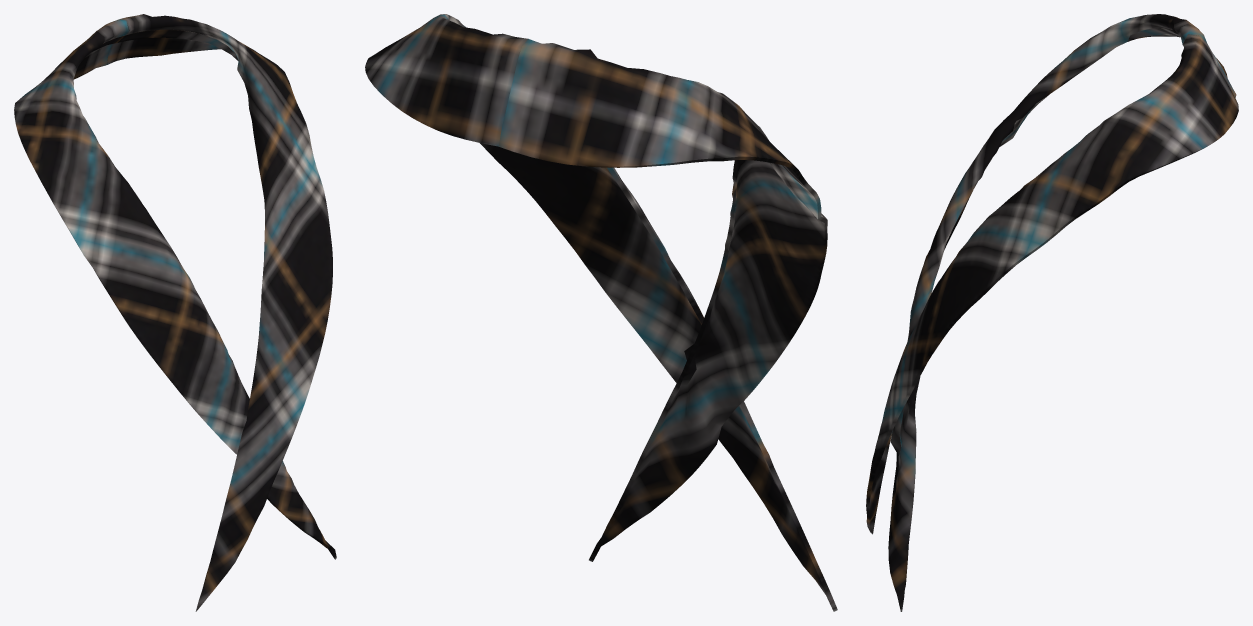
Rendered from shawldb.glb.
The picture shows the model from 3 angles, left to right: view 1: azimuth 30°, elevation 25°; view 2: azimuth 150°, elevation 25°; view 3: azimuth 270°, elevation 25°; orthographic projection. The views are drawn at different scales.
Parts seen in each view (by area): view 1: lapel (×3); view 2: lapel (×2); view 3: lapel (×2).
Boxes of the visible parts, x1,y1,x2,y2 form: lapel (×3): [14, 14, 336, 611]; lapel (×2): [365, 14, 837, 611]; lapel (×2): [866, 14, 1238, 611].
Bounding box in the file's own units: 249 × 421 × 264.
4 materials, 4 textured.
